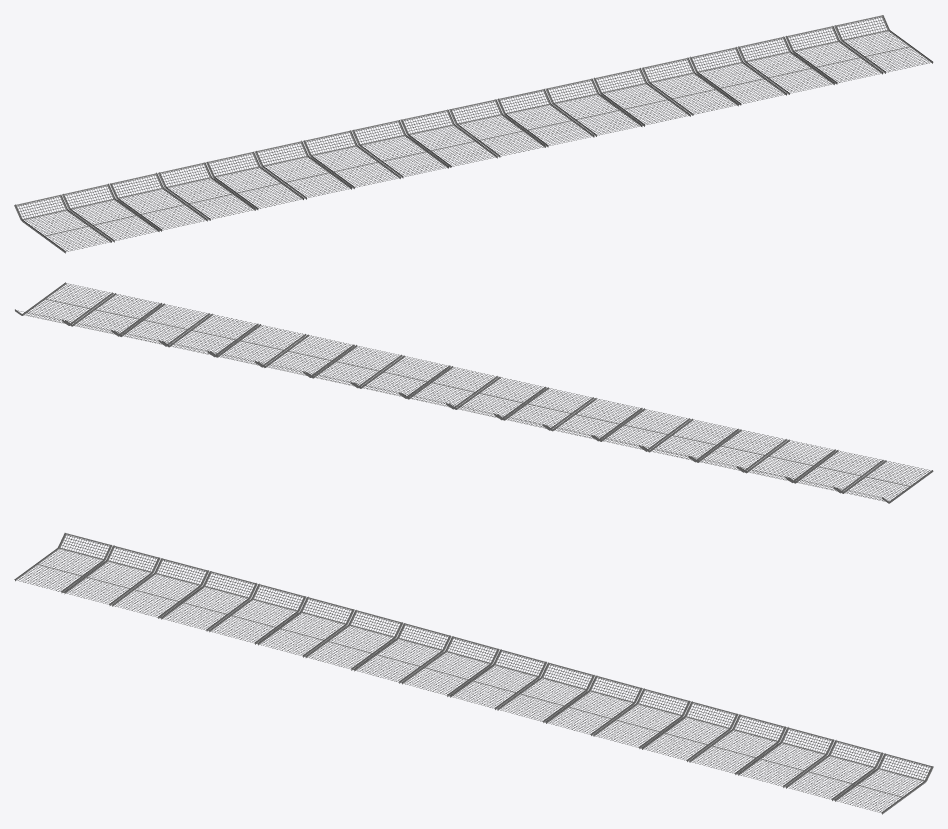
File: _1WALL_07_SUB1_Scene.272.obj
3 renders of one model, top to bottom at view 1: azimuth 30°, elevation 25°; view 2: azimuth 150°, elevation 25°; view 3: azimuth 330°, elevation 25°, orthographic.
Parts seen in each view (by area): view 1: _1WALL_07_SUB1_Scene.272; view 2: _1WALL_07_SUB1_Scene.272; view 3: _1WALL_07_SUB1_Scene.272.
Part boxes in pixels (x1,y1,x2,y2): _1WALL_07_SUB1_Scene.272: (14, 15, 933, 253); _1WALL_07_SUB1_Scene.272: (15, 282, 933, 503); _1WALL_07_SUB1_Scene.272: (14, 533, 933, 814).
Bounding box in the file's own units: 36.11 × 1.39 × 3.74.
